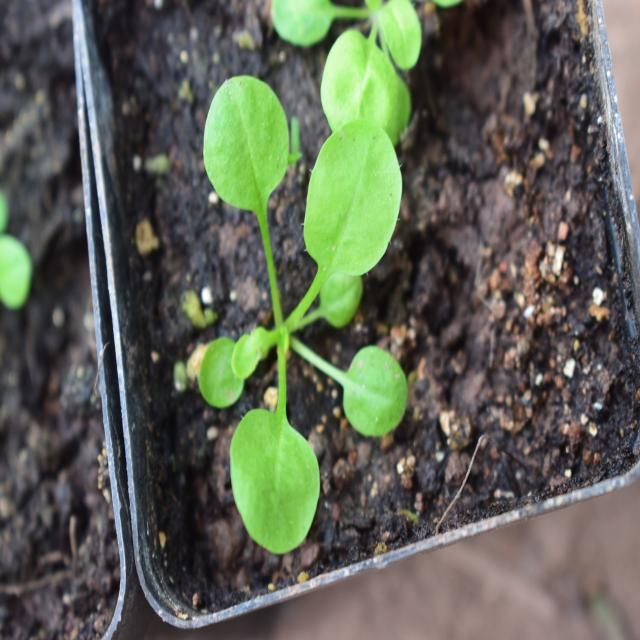Shepherd_Purse: (190, 87, 414, 568)
